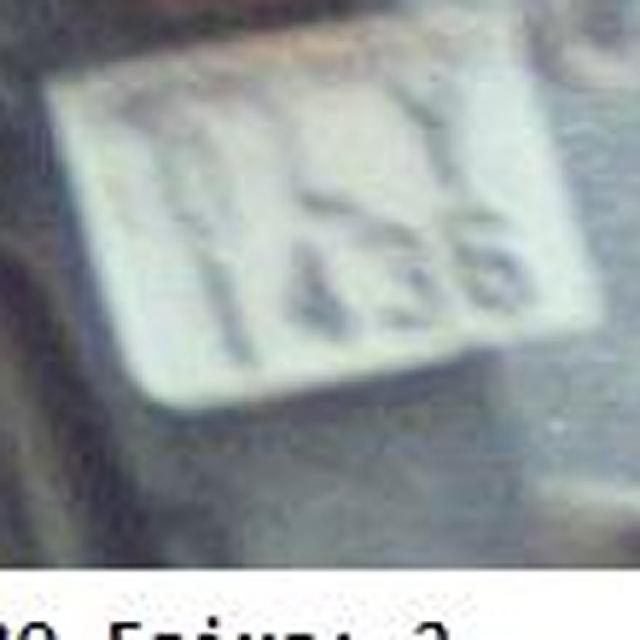1: (168, 236, 268, 369)
3: (320, 208, 465, 328)
4: (260, 216, 372, 364)
5: (424, 189, 551, 316)
D: (120, 112, 248, 240)
Z: (248, 84, 368, 204)
